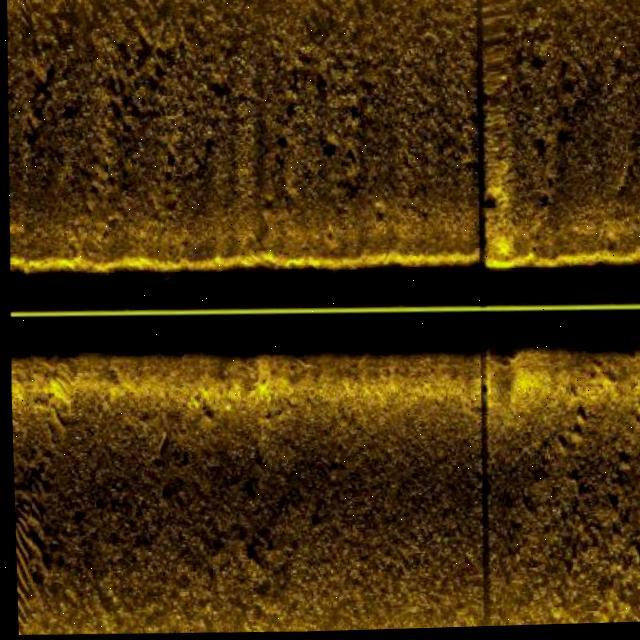mine: (149, 433, 172, 462)
